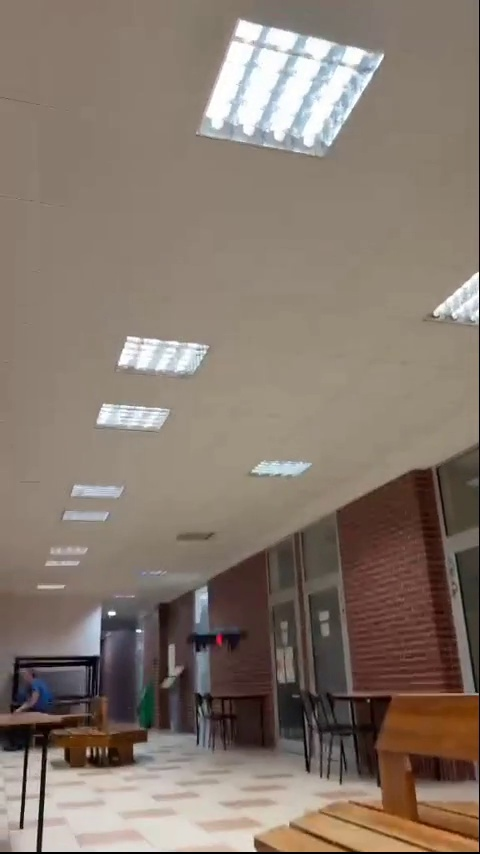drone: (189, 630, 249, 653)
no vest: (15, 666, 54, 712)
